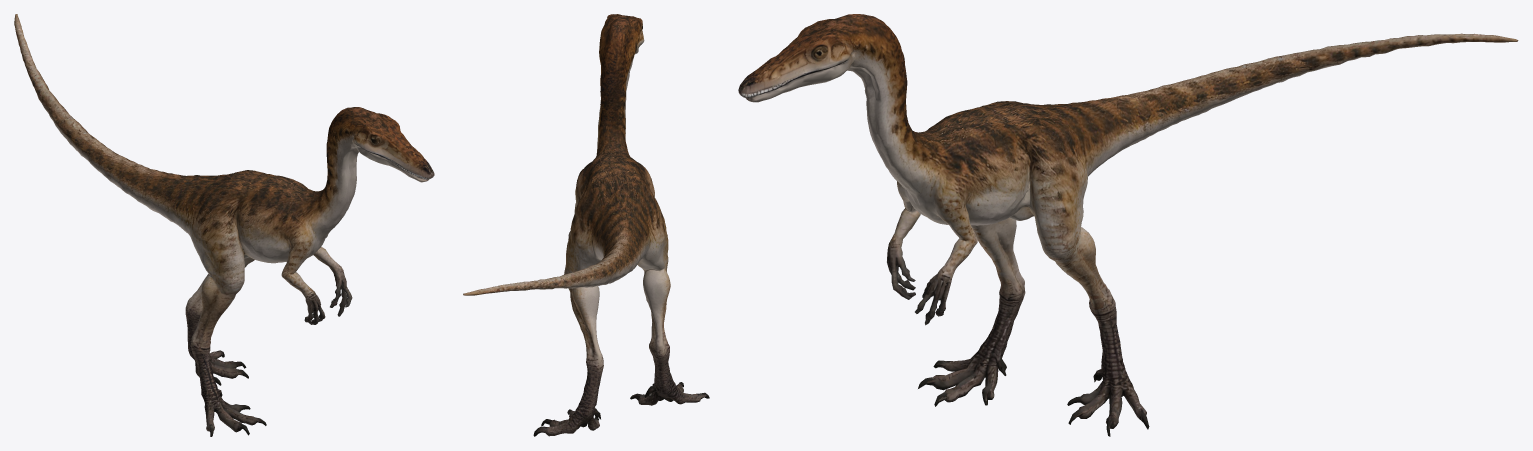
Rendered from coelophysis.raw.glb.
3 views of the same model, side by side, from view 1: azimuth 30°, elevation 25°; view 2: azimuth 150°, elevation 25°; view 3: azimuth 270°, elevation 25° (orthographic). The views are drawn at different scales.
Parts seen in each view (by area): view 1: tripo_node_e32bb637-47e7-46df-8dff-9a6074e9631b; view 2: tripo_node_e32bb637-47e7-46df-8dff-9a6074e9631b; view 3: tripo_node_e32bb637-47e7-46df-8dff-9a6074e9631b.
Part boxes in pixels (box(x1,y1,x2,y2)): tripo_node_e32bb637-47e7-46df-8dff-9a6074e9631b: box(14, 14, 434, 436); tripo_node_e32bb637-47e7-46df-8dff-9a6074e9631b: box(463, 14, 709, 436); tripo_node_e32bb637-47e7-46df-8dff-9a6074e9631b: box(738, 14, 1518, 436).
Bounding box in the file's own units: 0.343 × 0.6125 × 1.
1 material, 1 textured.
